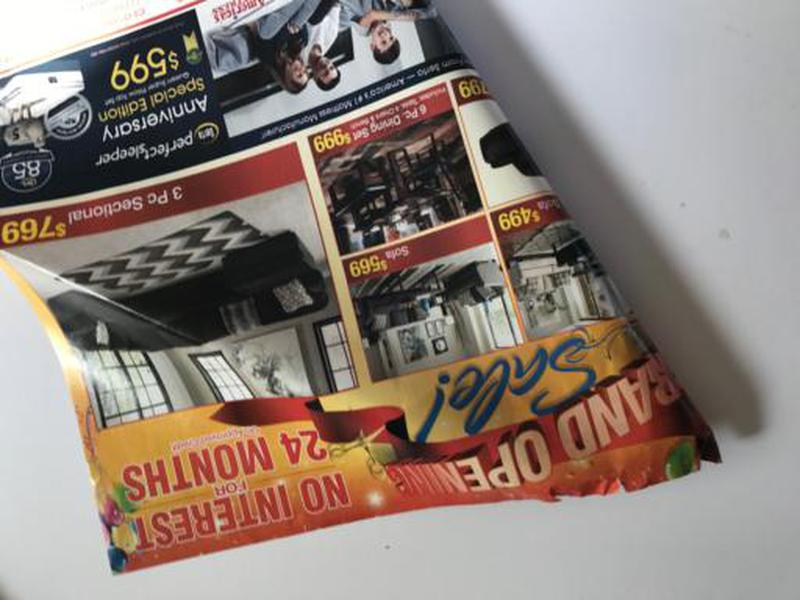paper: (1, 1, 727, 575)
